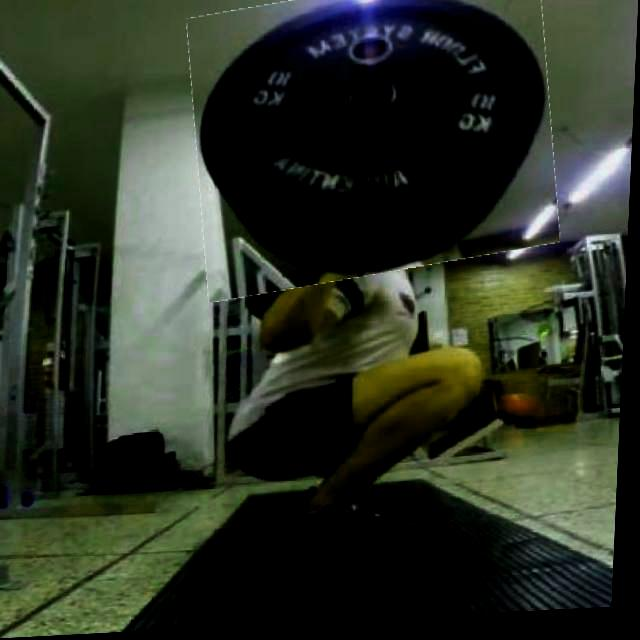barbell: (186, 1, 565, 296)
